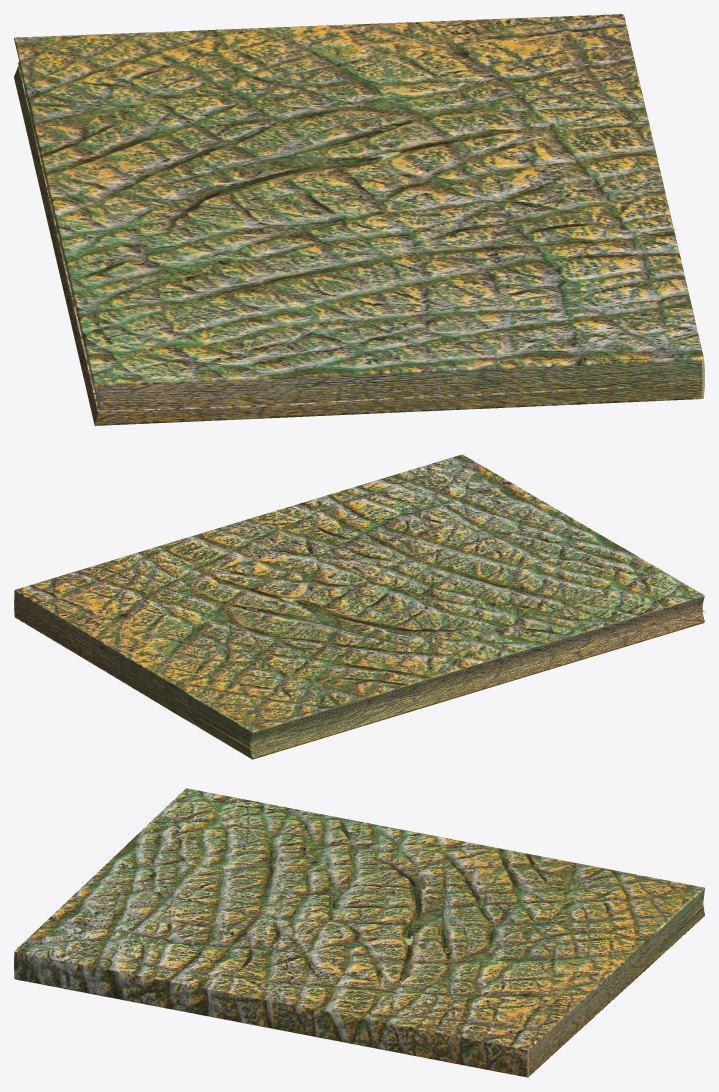
The model's file is Libro.obj.
3 views of the same model, one above another, from view 1: azimuth 30°, elevation 25°; view 2: azimuth 150°, elevation 25°; view 3: azimuth 270°, elevation 25° (orthographic). The views are drawn at different scales.
Parts seen in each view (by area): view 1: Center_Table:AI30_005_books_001_03; view 2: Center_Table:AI30_005_books_001_03; view 3: Center_Table:AI30_005_books_001_03.
Boxes of the visible parts, x1,y1,x2,y2 form: Center_Table:AI30_005_books_001_03: (14, 14, 704, 425); Center_Table:AI30_005_books_001_03: (14, 454, 704, 759); Center_Table:AI30_005_books_001_03: (14, 788, 704, 1077).
Bounding box in the file's own units: 0.2802 × 0.0143 × 0.3126.
1 material, 1 textured.
